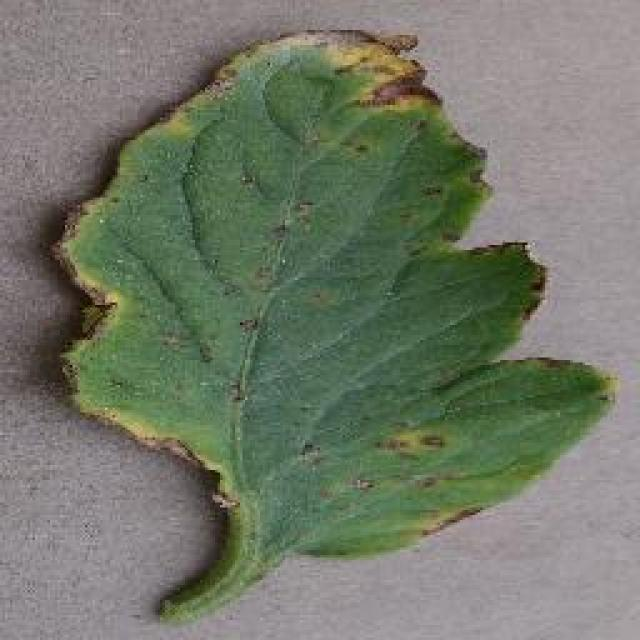bacterial spot: (48, 29, 623, 628)
